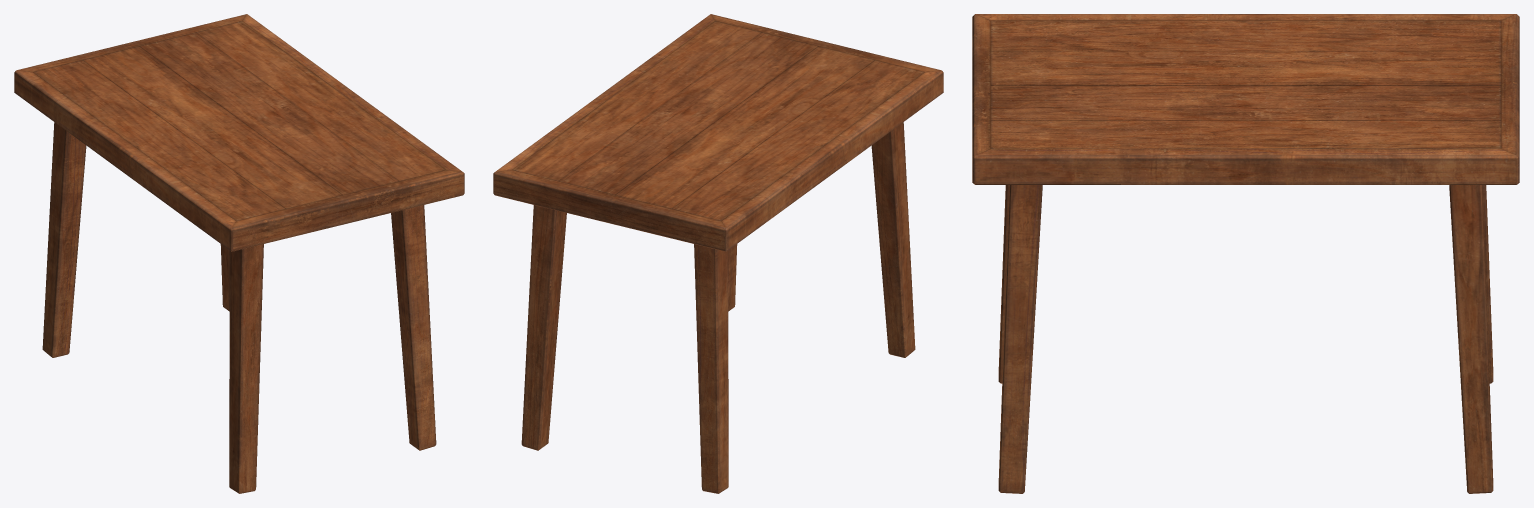
The model's file is wooden_table.glb.
3 views of the same model, side by side, from view 1: azimuth 30°, elevation 25°; view 2: azimuth 150°, elevation 25°; view 3: azimuth 270°, elevation 25° (orthographic). The views are drawn at different scales.
Parts seen in each view (by area): view 1: Wooden Table; view 2: Wooden Table; view 3: Wooden Table.
Boxes of the visible parts, left/top/right/bottom form: Wooden Table: left=14, top=14, right=464, bottom=493; Wooden Table: left=493, top=14, right=943, bottom=493; Wooden Table: left=972, top=14, right=1519, bottom=493.
Size of the model in its own units: 0.6418 by 0.7269 by 1.03.
Materials: 1 (1 with a texture image).
